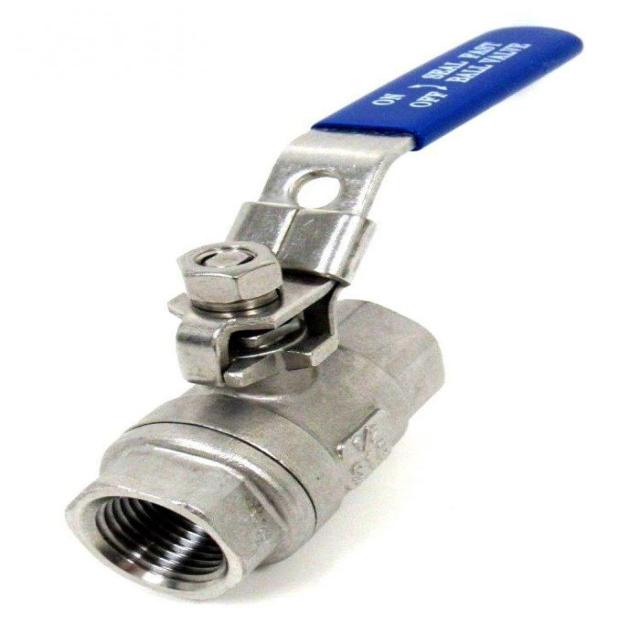opened_valve: (58, 21, 582, 606)
